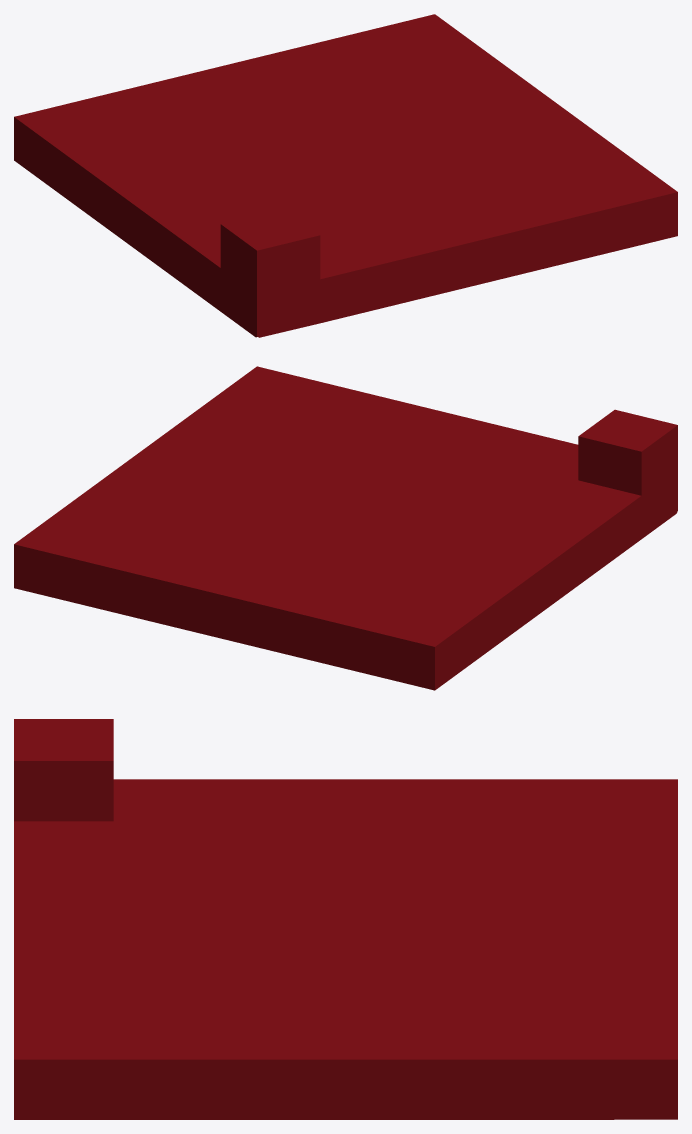
Rendered from SM_MH_01_Wood_Porch_Intersection_01.fbx.
3 renders of one model, top to bottom at view 1: azimuth 30°, elevation 25°; view 2: azimuth 150°, elevation 25°; view 3: azimuth 270°, elevation 25°, orthographic. The views are drawn at different scales.
Parts seen in each view (by area): view 1: SM_MH_01_Wood_Porch_Intersection_01_LOD0; view 2: SM_MH_01_Wood_Porch_Intersection_01_LOD0; view 3: SM_MH_01_Wood_Porch_Intersection_01_LOD0.
Boxes of the visible parts, x1,y1,x2,y2 form: SM_MH_01_Wood_Porch_Intersection_01_LOD0: (14,14,677,337); SM_MH_01_Wood_Porch_Intersection_01_LOD0: (14,366,677,690); SM_MH_01_Wood_Porch_Intersection_01_LOD0: (14,719,677,1119).
Size of what is drawn, in the model's own units: 100 by 20 by 100.
